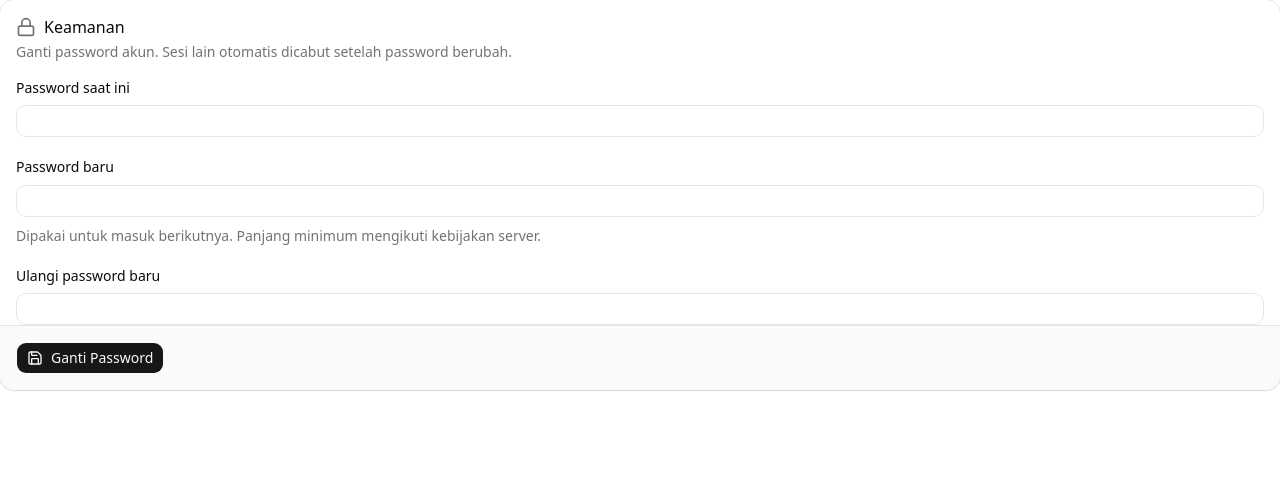
Test: components/settings/security-section › submit valid mengirim password lama dan baru lalu menampilkan sukses
This screenshot has width=1280, height=482.
Type "lama123" into the password field labelled "Password saat ini" at (640, 121), box [16,105,1264,137]
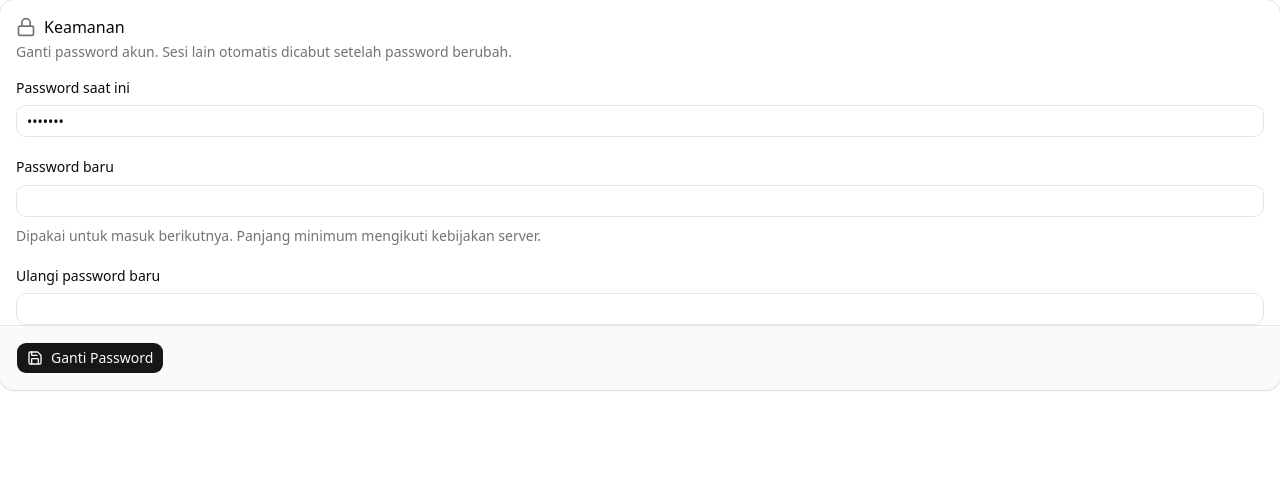
Type "baru456" into the password field labelled "Password baru" at (640, 200), box [16,184,1264,216]
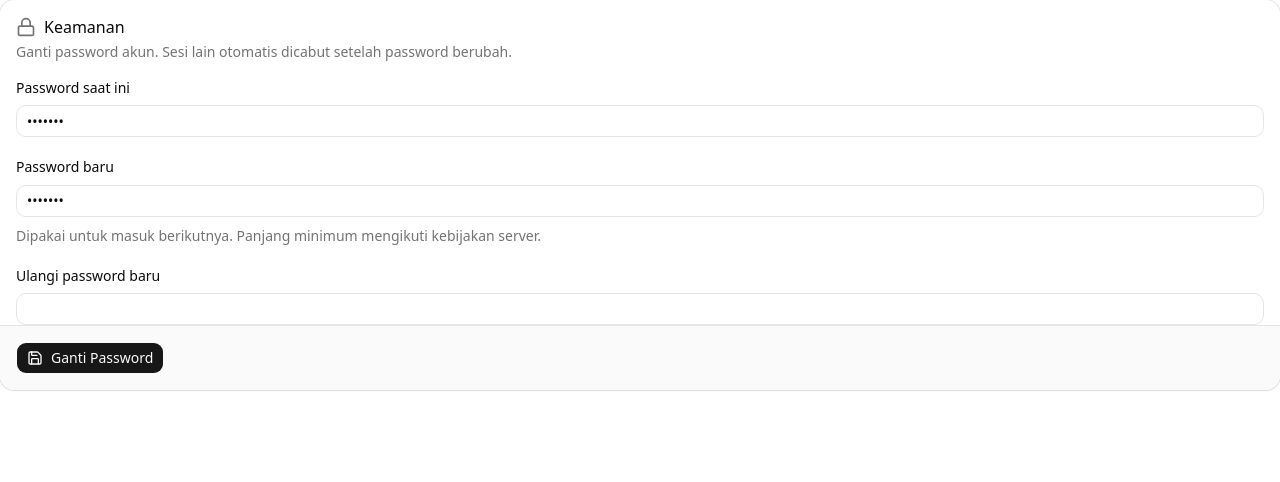
Type "baru456" into the password field labelled "Ulangi password baru" at (640, 309), box [16,293,1264,325]
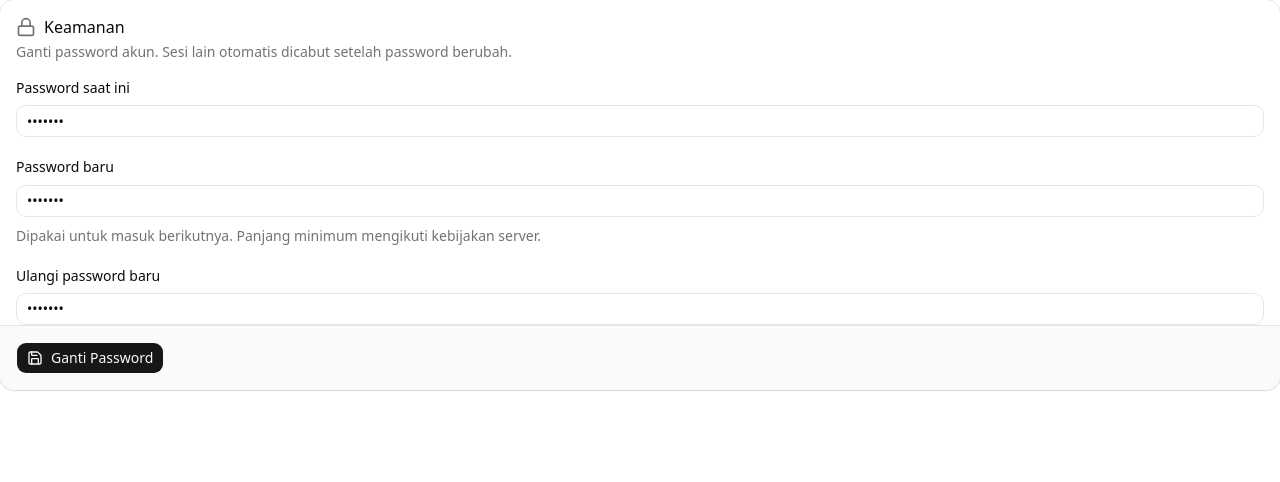
Click the button "Ganti Password" at (90, 358), box [16,342,164,374]
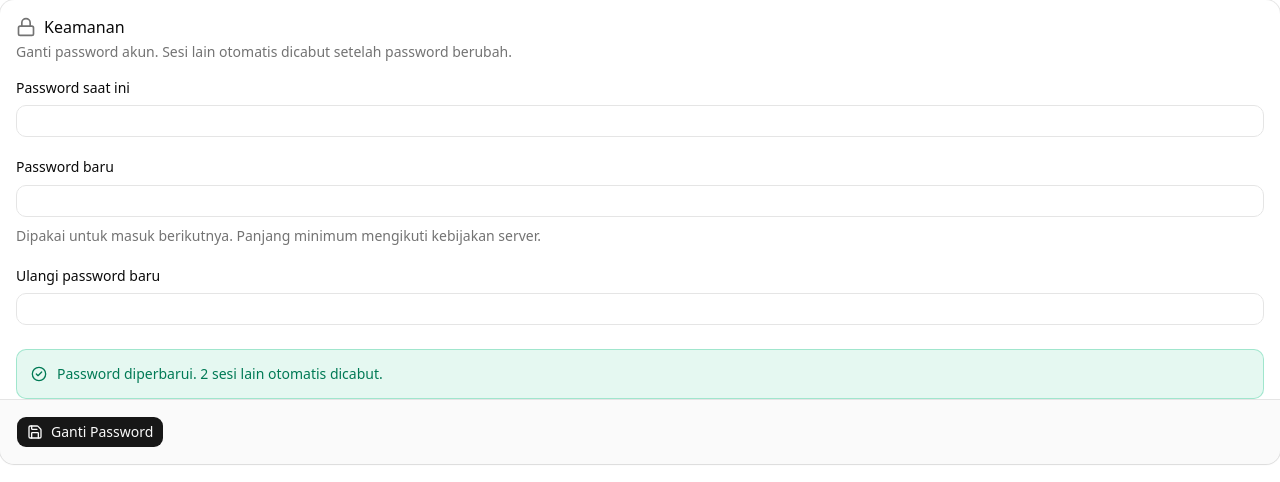
Check: the message reads "Password diperbarui. 2 sesi lain otomatis dicabut.", box [57,364,383,383]
Check: the password field labelled "Password saat ini" is empty, box [16,105,1264,137]
